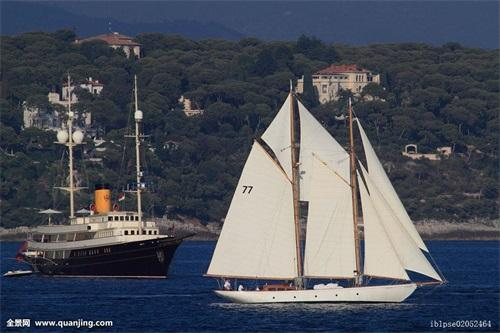Ship: (206, 88, 449, 302), (18, 76, 198, 278)
